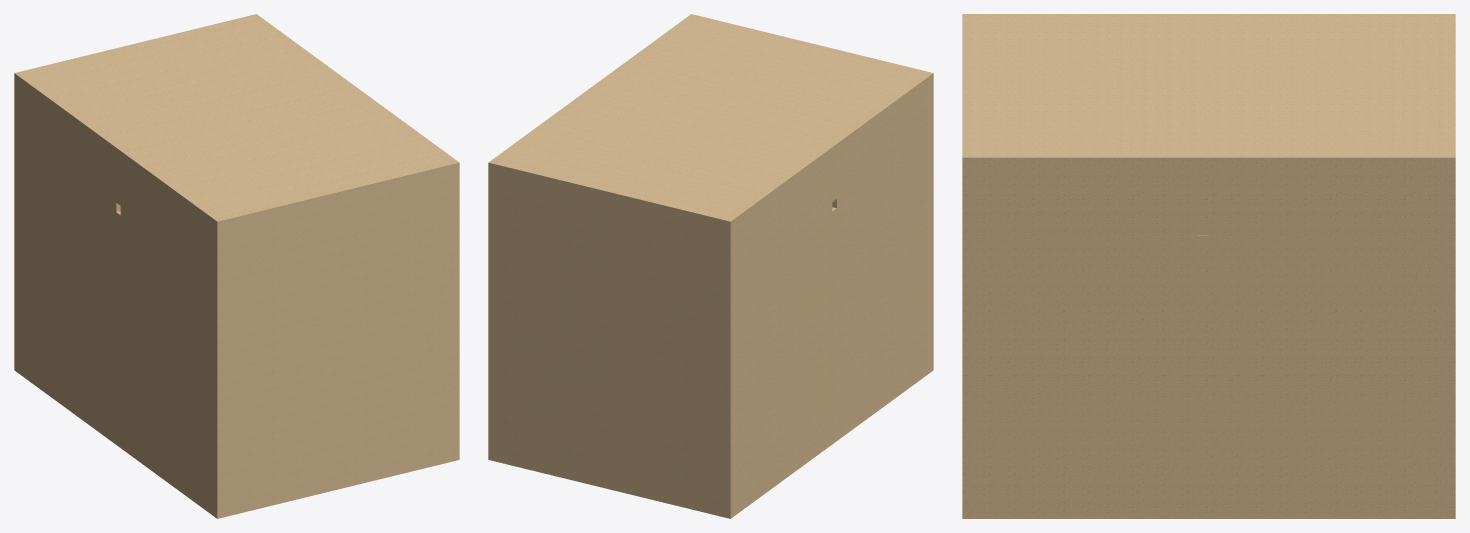
File: spinningroomouter.fbx
3 renders of one model, left to right at view 1: azimuth 30°, elevation 25°; view 2: azimuth 150°, elevation 25°; view 3: azimuth 270°, elevation 25°, orthographic. The views are drawn at different scales.
Parts seen in each view (by area): view 1: spinroomouter; view 2: spinroomouter; view 3: spinroomouter.
Boxes of the visible parts, left/top/right/bottom form: spinroomouter: left=14, top=14, right=459, bottom=518; spinroomouter: left=488, top=14, right=933, bottom=518; spinroomouter: left=962, top=14, right=1455, bottom=518.
Size of the model in its own units: 28665 by 33619 by 41612.
